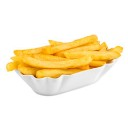frenchfries: (7, 40, 126, 77)
